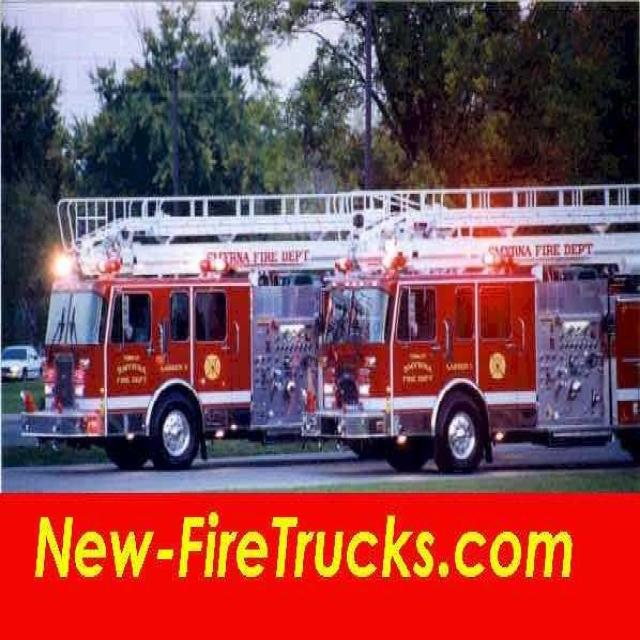ambulance: (62, 159, 400, 446), (316, 199, 637, 452)
